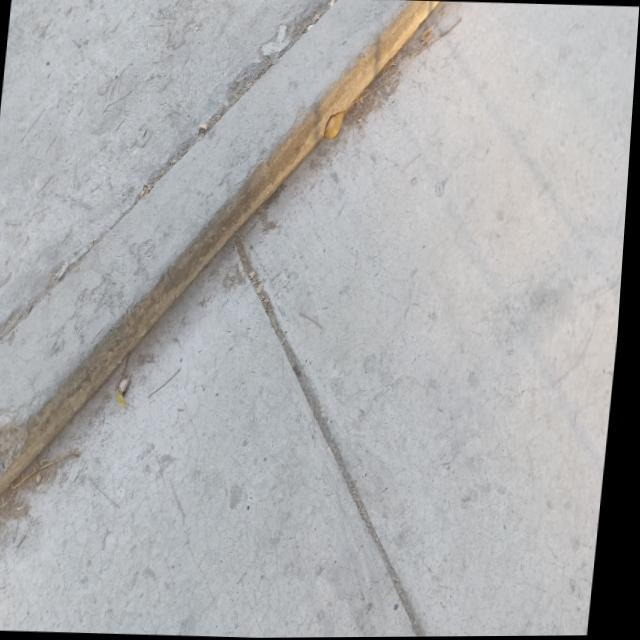bump: (21, 35, 392, 518)
